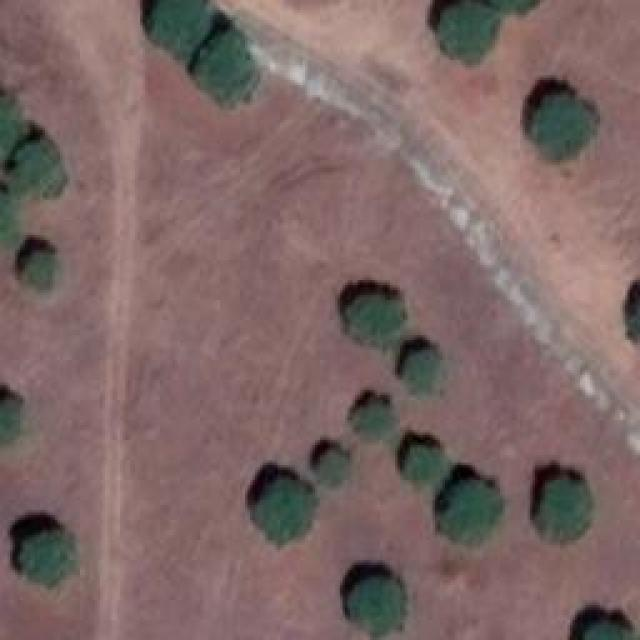Tree: (525, 90, 599, 166), (192, 30, 262, 98), (13, 523, 81, 591), (440, 478, 505, 542), (433, 0, 500, 61), (255, 478, 314, 542), (143, 0, 216, 51), (535, 478, 591, 538), (348, 294, 407, 348), (354, 577, 406, 635), (15, 238, 61, 293), (13, 145, 65, 193), (360, 397, 403, 444), (405, 348, 446, 397), (405, 450, 448, 493), (0, 391, 26, 448), (0, 98, 23, 161), (578, 613, 630, 640), (0, 190, 23, 246), (314, 443, 348, 478), (627, 287, 640, 344)
